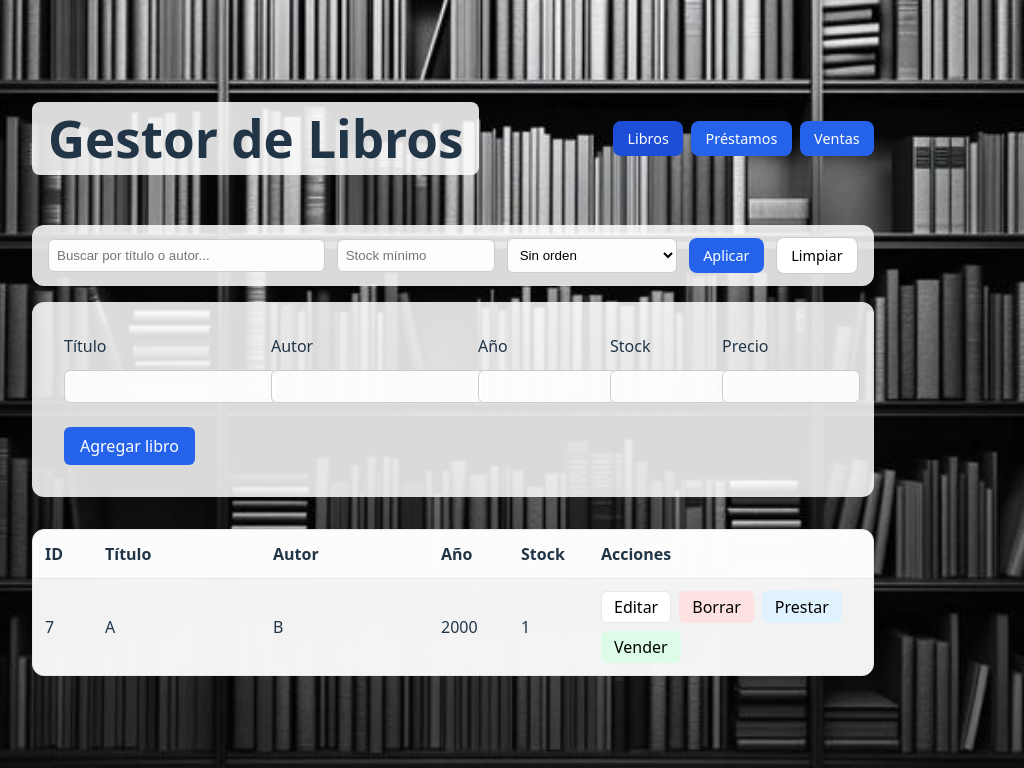
App flows › edita libro existente
Check: the text "A" is shown, box x1=105 y1=616 x2=115 y2=638
Click the button "Editar" at (636, 607), box x1=601 y1=591 x2=671 y2=623
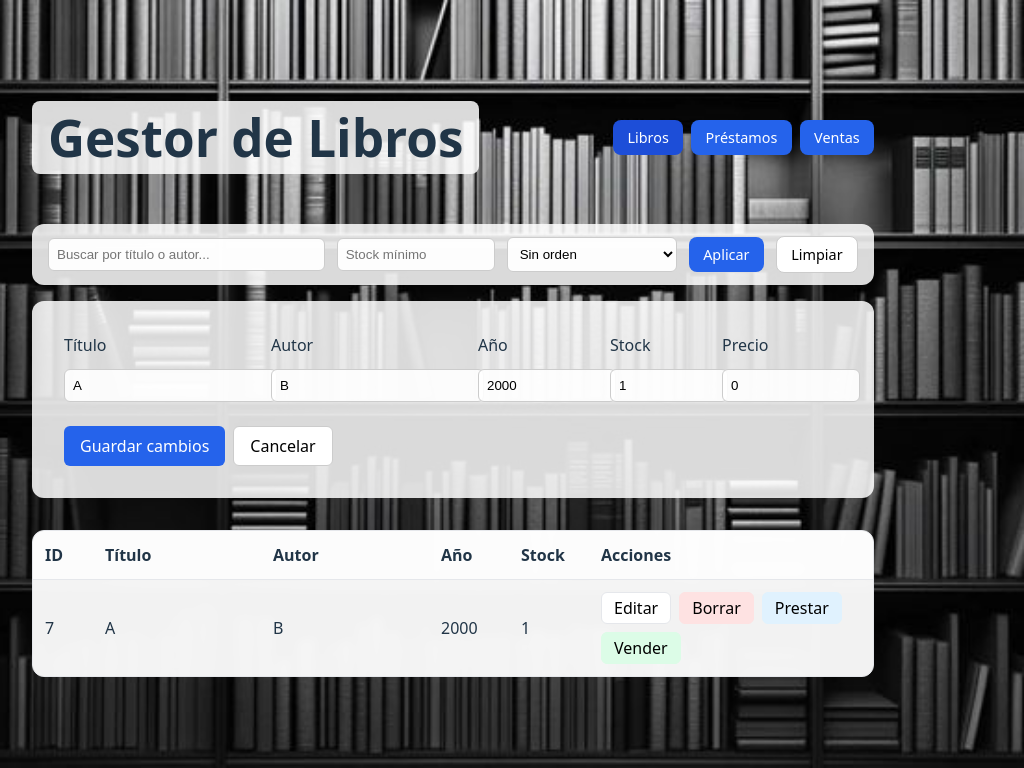
Replace the text in the field labelled "Título" with "A2" at (170, 386), box x1=64 y1=369 x2=277 y2=402
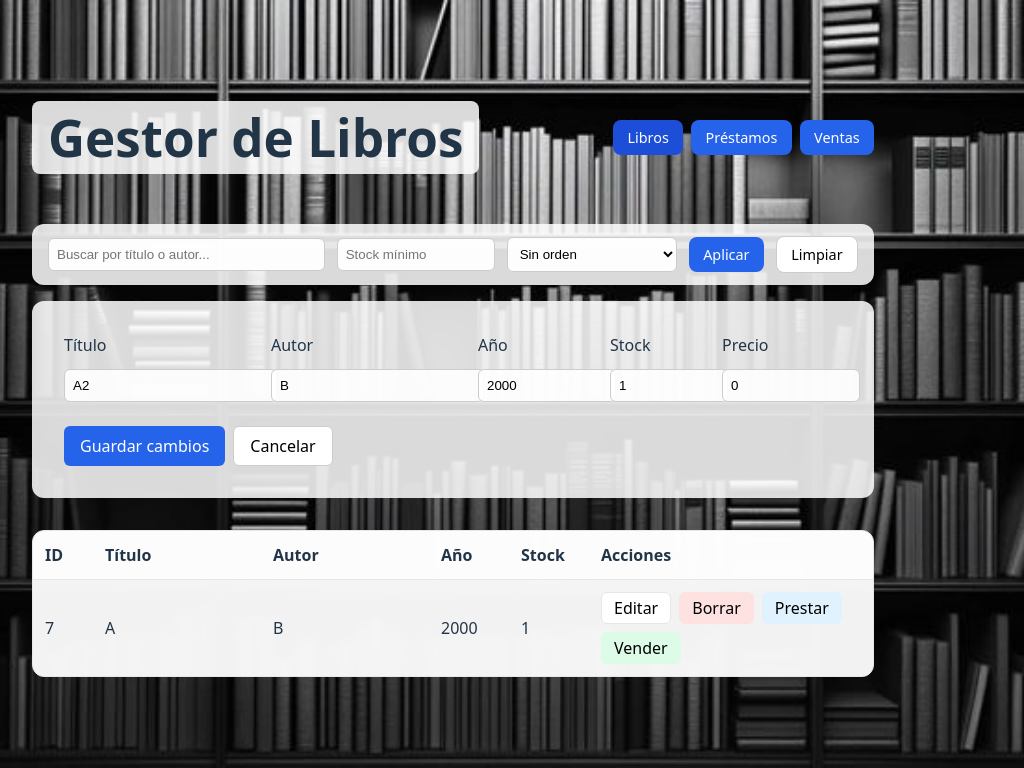
Replace the text in the number field labelled "Año" with "2001" at (547, 386), box x1=478 y1=369 x2=616 y2=402
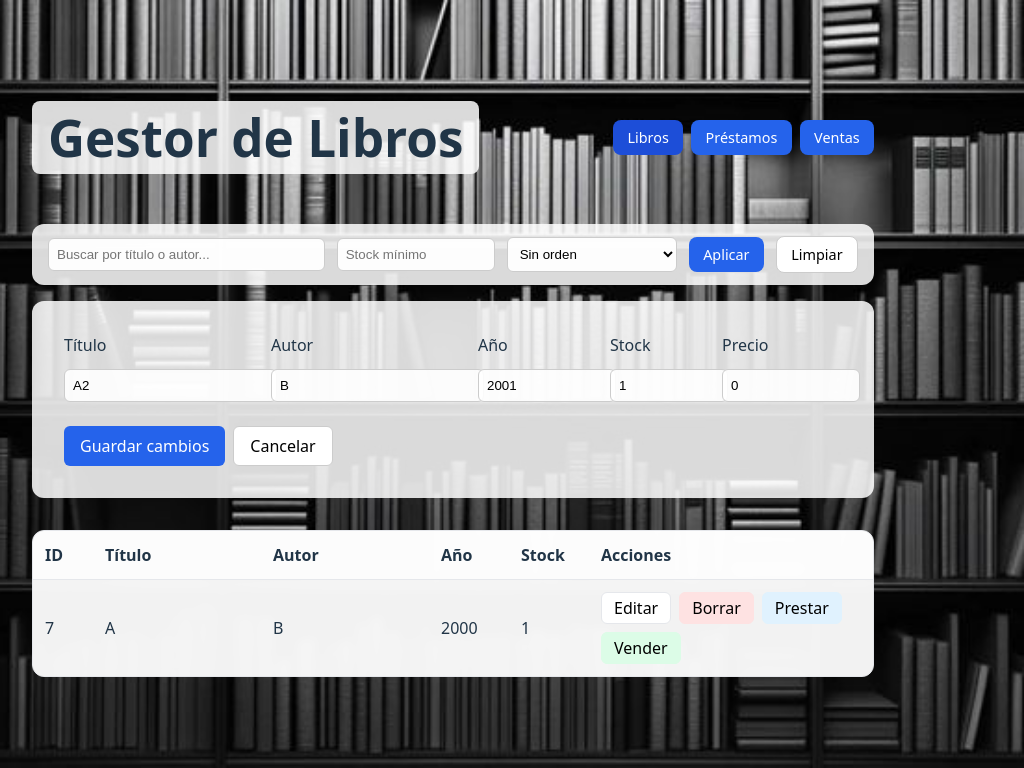
Click the button "Guardar cambios" at (145, 446), box x1=64 y1=426 x2=225 y2=466
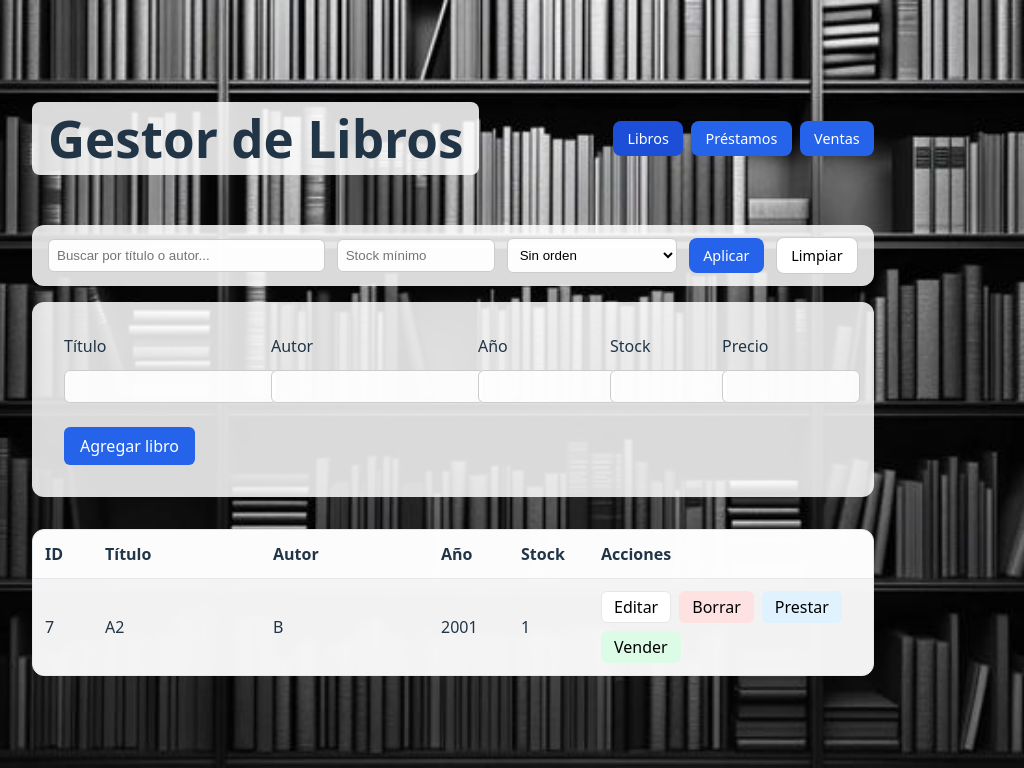
Check: the text "A2" is shown, box x1=105 y1=616 x2=124 y2=638
